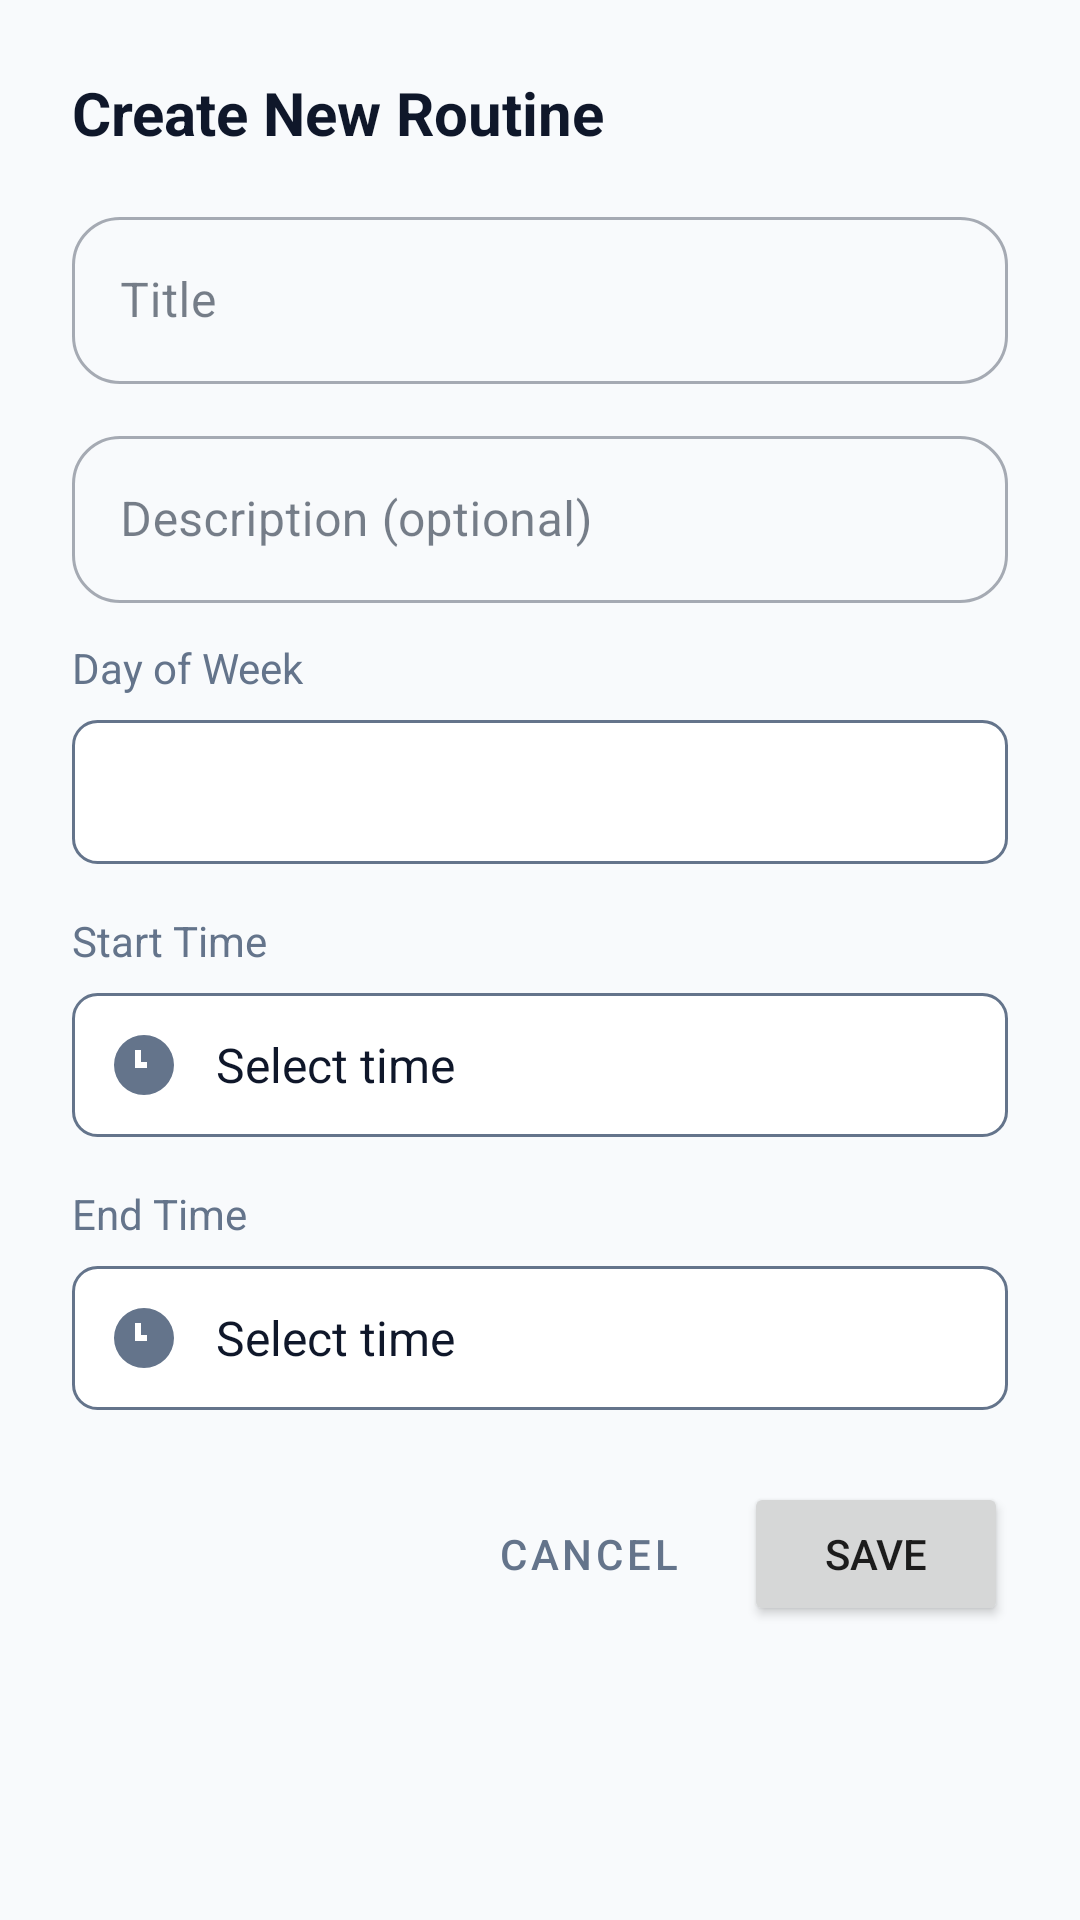

Icon click points for this 1080×1920 phone screenshot, format (x,y):
hours: (144,1065), (144,1338)
